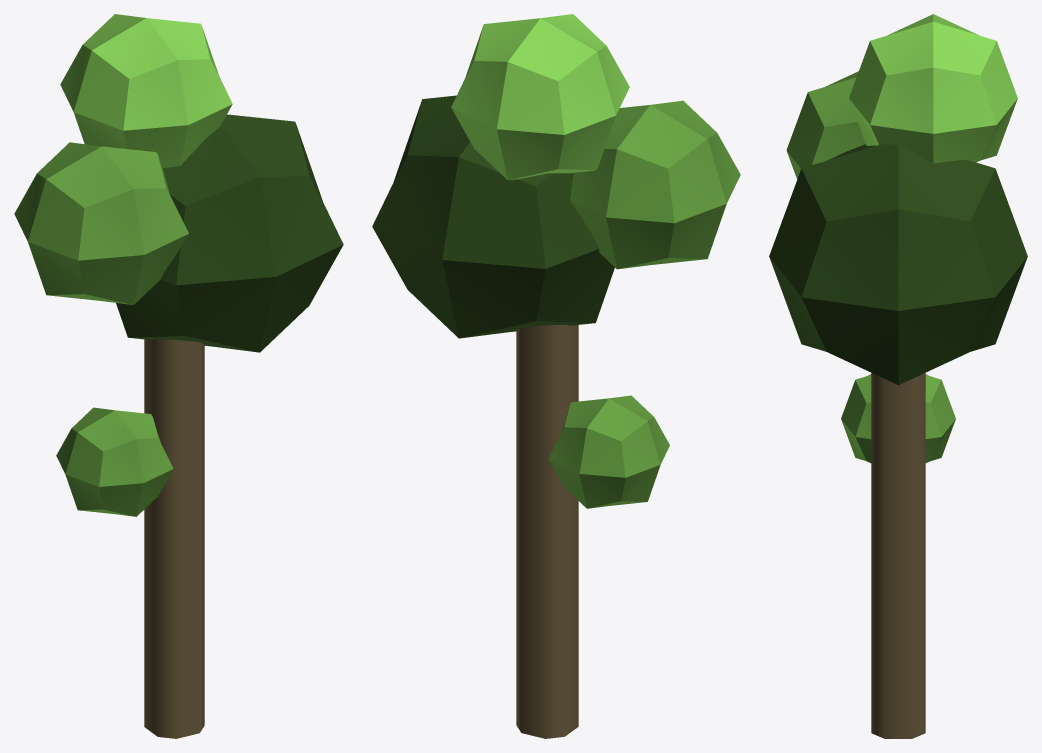
Rendered from Tree_1.fbx.
3 views of the same model, side by side, from view 1: azimuth 30°, elevation 25°; view 2: azimuth 150°, elevation 25°; view 3: azimuth 270°, elevation 25° (orthographic). The views are drawn at different scales.
Parts seen in each view (by area): view 1: Thin_Bubble_Tree; view 2: Thin_Bubble_Tree; view 3: Thin_Bubble_Tree.
Part boxes in pixels (box(x1,y1,x2,y2)): Thin_Bubble_Tree: box(14, 14, 343, 738); Thin_Bubble_Tree: box(372, 14, 740, 738); Thin_Bubble_Tree: box(769, 14, 1027, 738).
Size of the model in its own units: 2.12 by 4.57 by 1.53.
